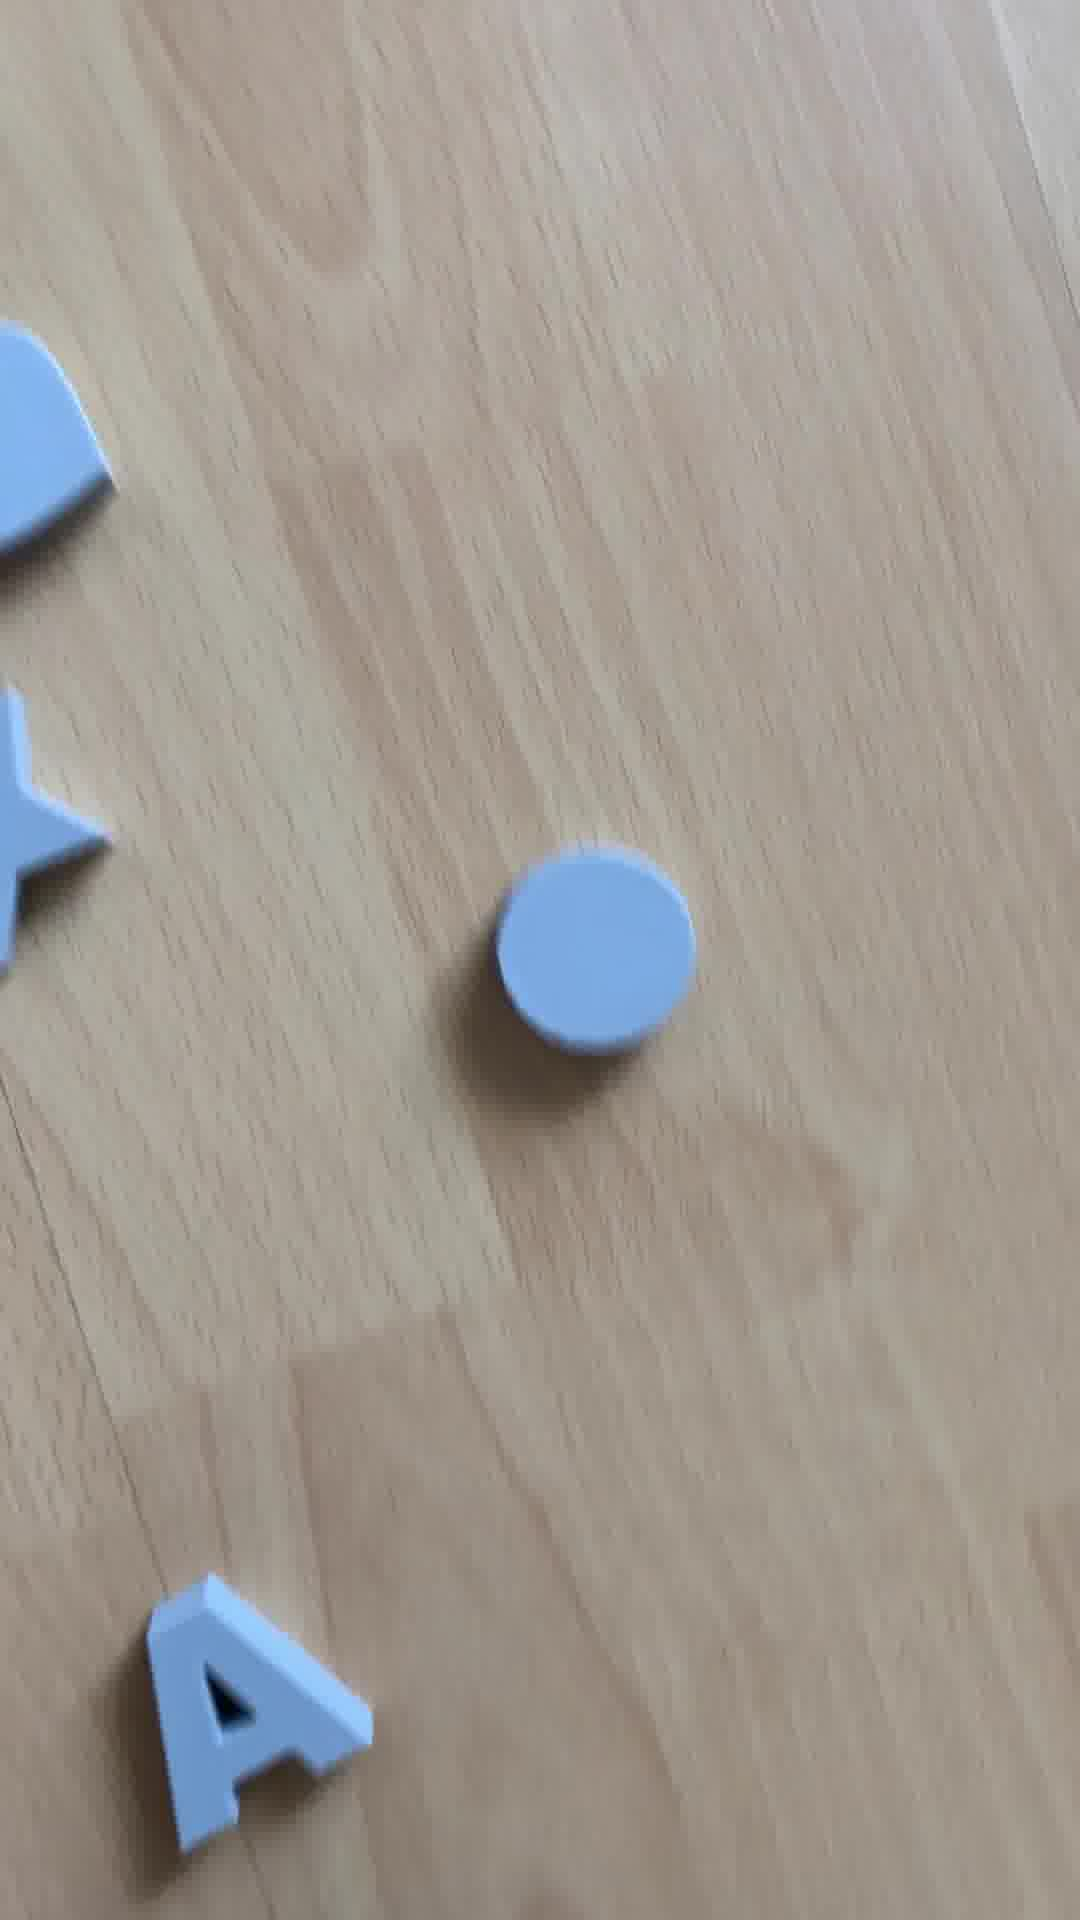Gray A-letter: (135, 1567, 372, 1851)
Gray circle: (495, 852, 686, 1062)
Gray star: (1, 683, 121, 1001)
